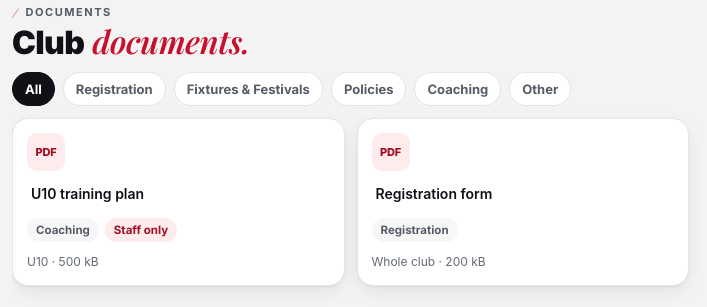
Test case: Documents — category chips › narrows the list to the clicked category
Expected: the text "Registration form" is shown, [376,186,492,202]
Expected: the text "U10 training plan" is shown, [31,186,144,202]
Click the button "Coaching" at [458, 89], box [414,72,501,106]
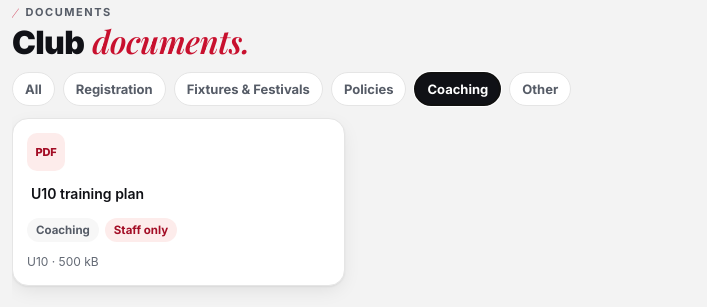
Expected: the text "U10 training plan" is shown, [31,186,144,202]
Expected: the button "Registration form" is gone
